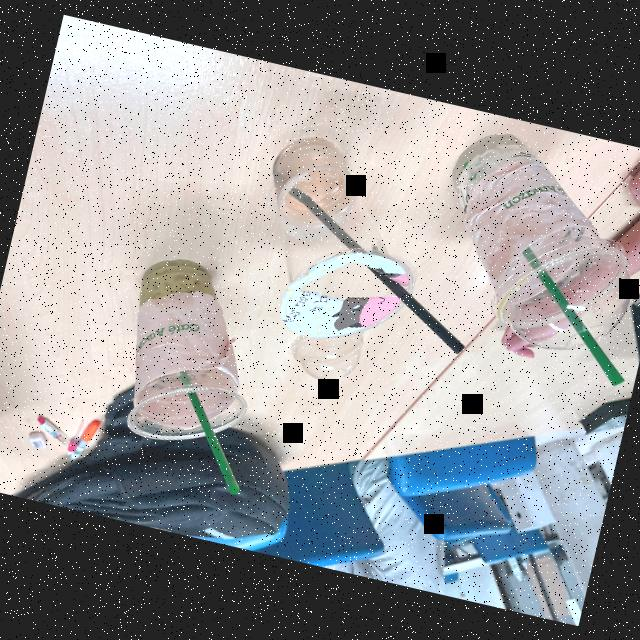plastic_cup: (425, 110, 640, 336), (230, 110, 440, 340), (91, 236, 266, 457)
plastic_cup_lid: (496, 209, 640, 367), (277, 300, 376, 408)
straw: (261, 188, 493, 360), (490, 232, 640, 382), (149, 368, 273, 503)
